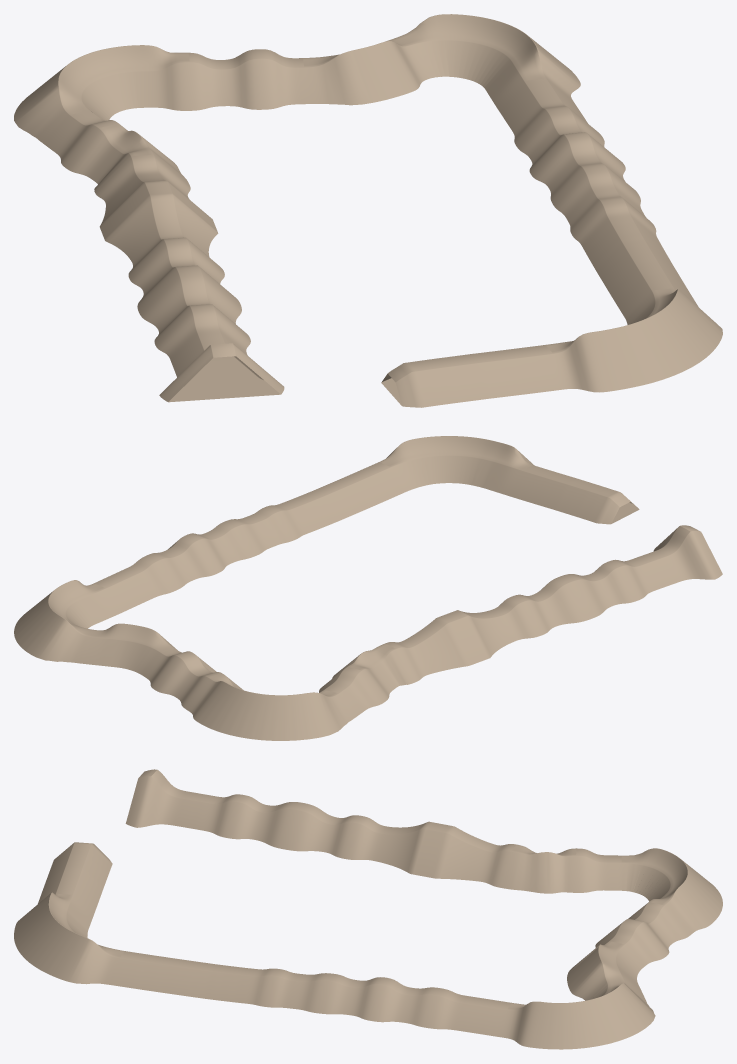
Rendered from pumps_2.glb.
3 renders of one model, top to bottom at view 1: azimuth 30°, elevation 25°; view 2: azimuth 150°, elevation 25°; view 3: azimuth 270°, elevation 25°, orthographic. The views are drawn at different scales.
Bounding box in the file's own units: 41.67 × 3.91 × 50.64.
